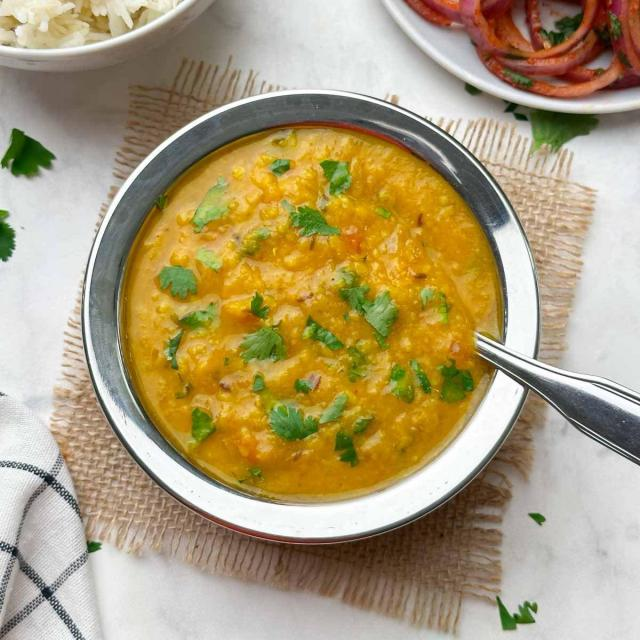dal: (120, 124, 503, 498)
rice: (0, 2, 164, 49)
